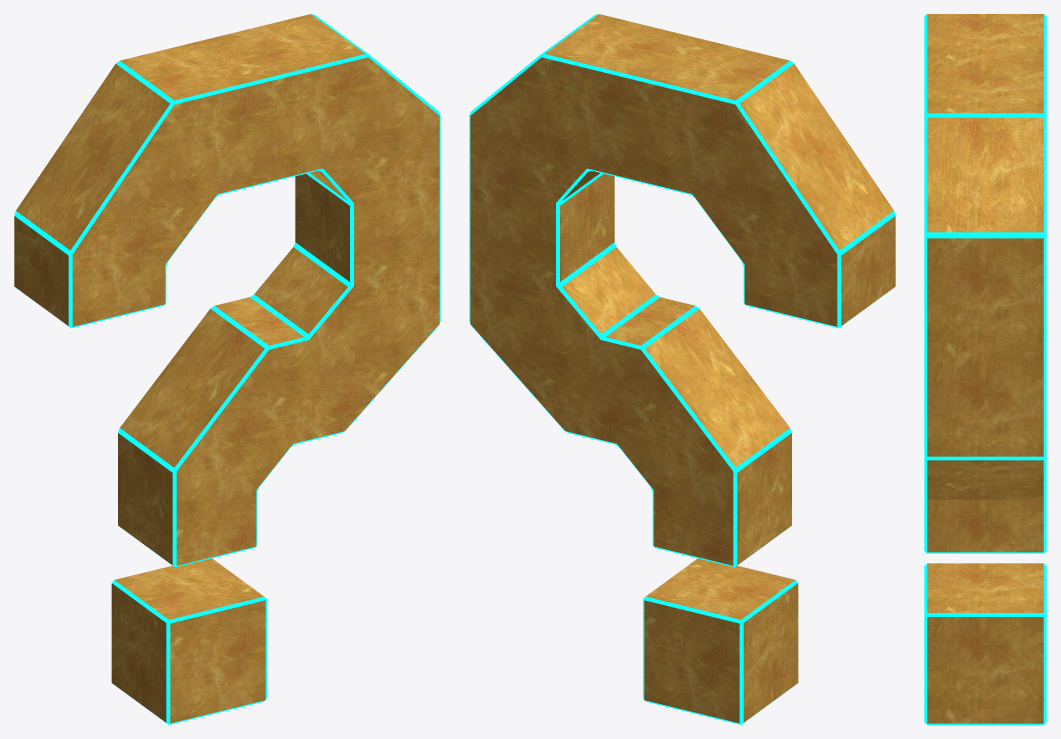
Rendered from question_mark.glb.
3 renders of one model, left to right at view 1: azimuth 30°, elevation 25°; view 2: azimuth 150°, elevation 25°; view 3: azimuth 270°, elevation 25°, orthographic. The views are drawn at different scales.
Parts seen in each view (by area): view 1: questionmark; view 2: questionmark; view 3: questionmark.
Part boxes in pixels (x1,y1,x2,y2): questionmark: (14, 14, 440, 724); questionmark: (469, 14, 895, 724); questionmark: (924, 14, 1046, 724).
Size of the model in its own units: 167 by 267 by 44.61.
2 materials, 1 textured.
